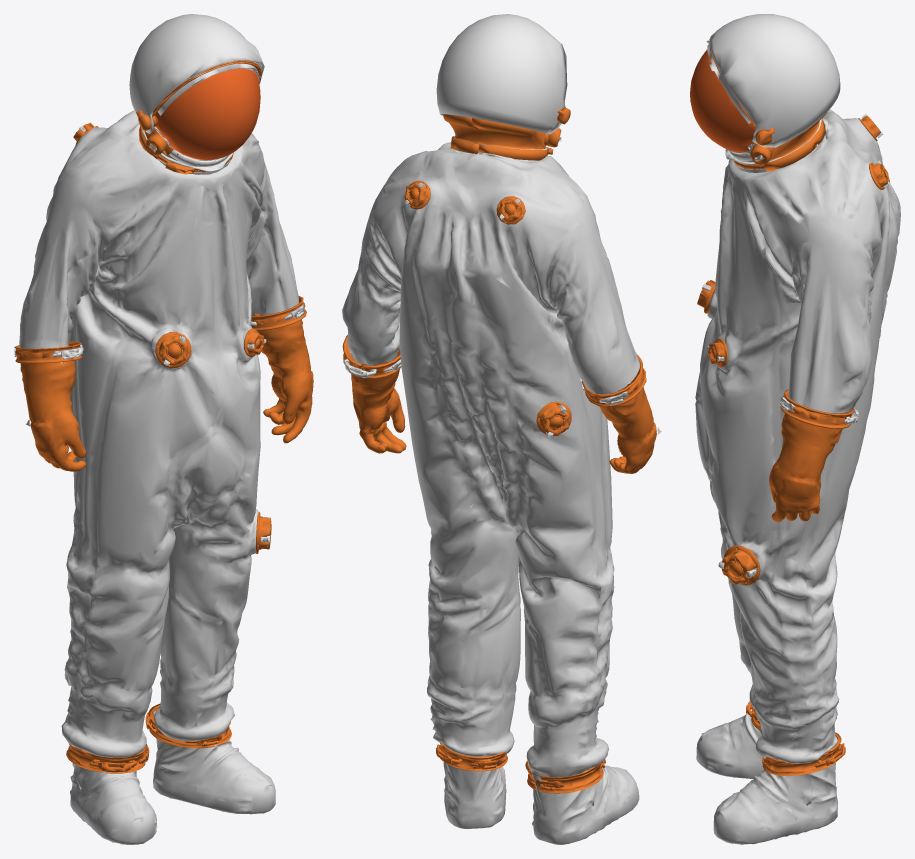
Rendered from untitledc.glb.
3 views of the same model, side by side, from view 1: azimuth 30°, elevation 25°; view 2: azimuth 150°, elevation 25°; view 3: azimuth 270°, elevation 25° (orthographic).
Parts seen in each view (by area): view 1: untitled; view 2: untitled; view 3: untitled.
Boxes of the visible parts, bbox=[...] form: untitled: bbox=[14, 14, 313, 844]; untitled: bbox=[342, 14, 661, 844]; untitled: bbox=[690, 14, 900, 844].
Bounding box in the file's own units: 0.4526 × 1.16 × 0.2782.
